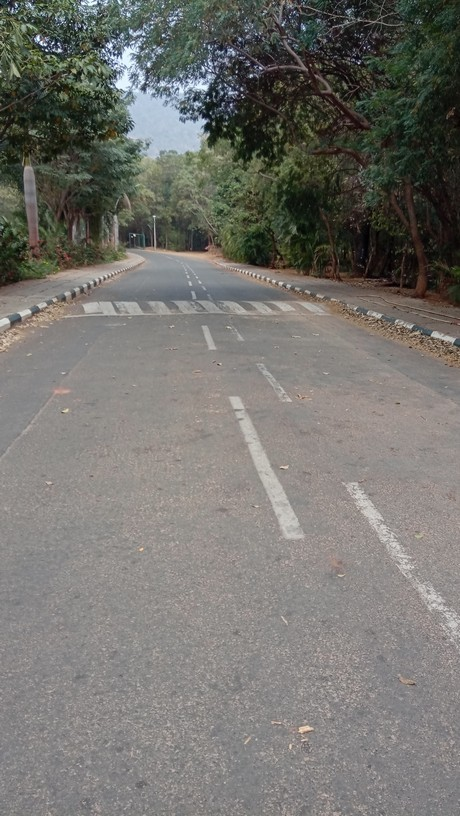bump: (53, 298, 324, 316)
